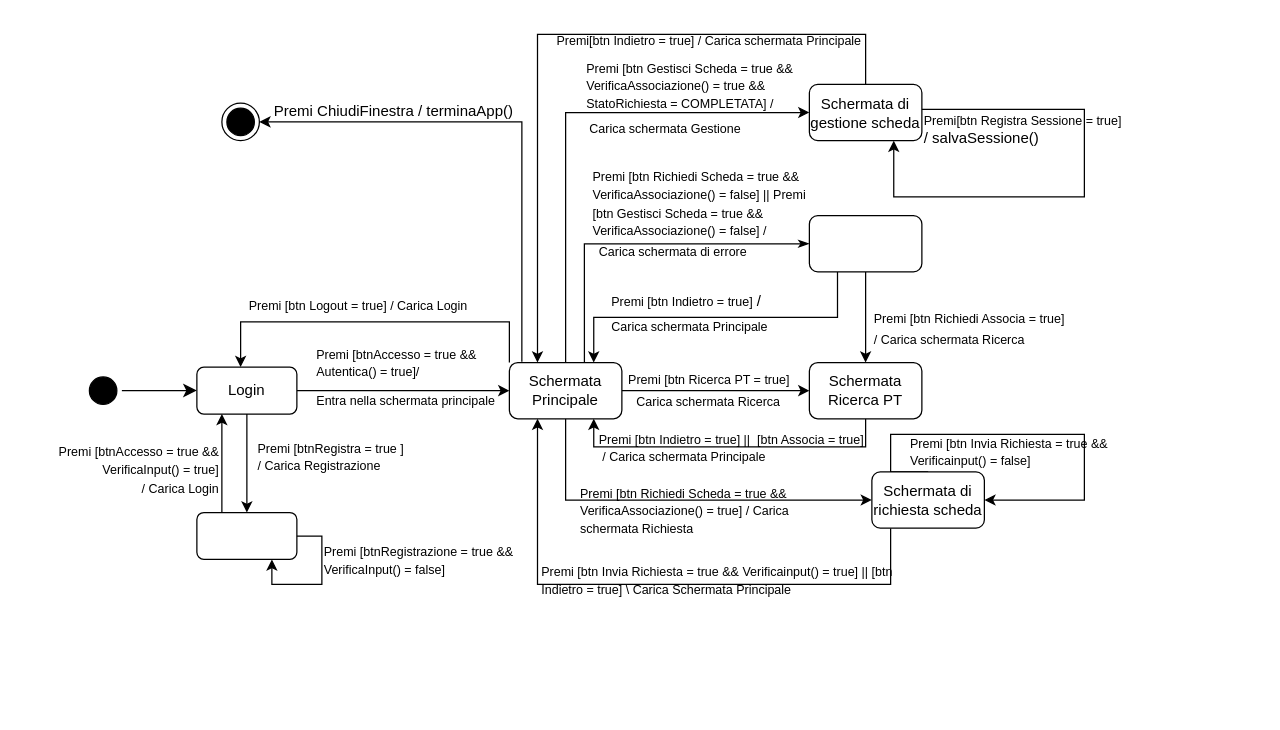
Some shapes in this 1280 by 730 pixel diagram are drawn without their labels. The box of each missing label's shape, as (x1, y1, x2, y2) in pixels:
Registrazione: (196, 511, 297, 559)
Schermata di errore No PT: (808, 214, 922, 272)
